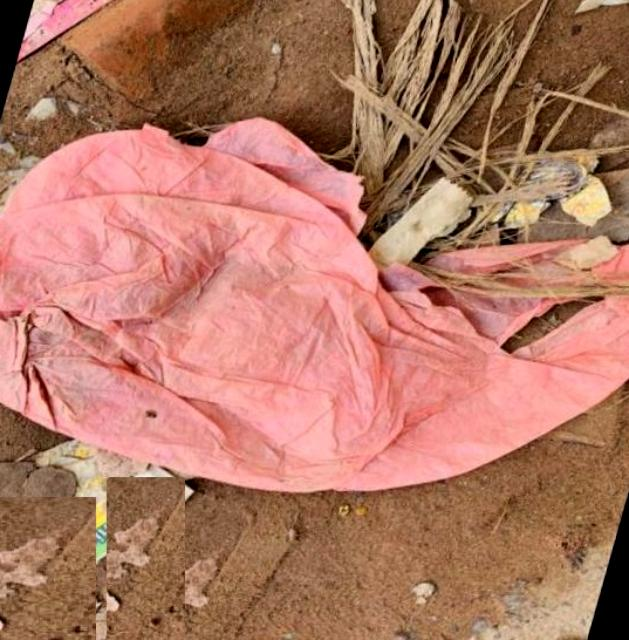polythene: (0, 162, 629, 542)
